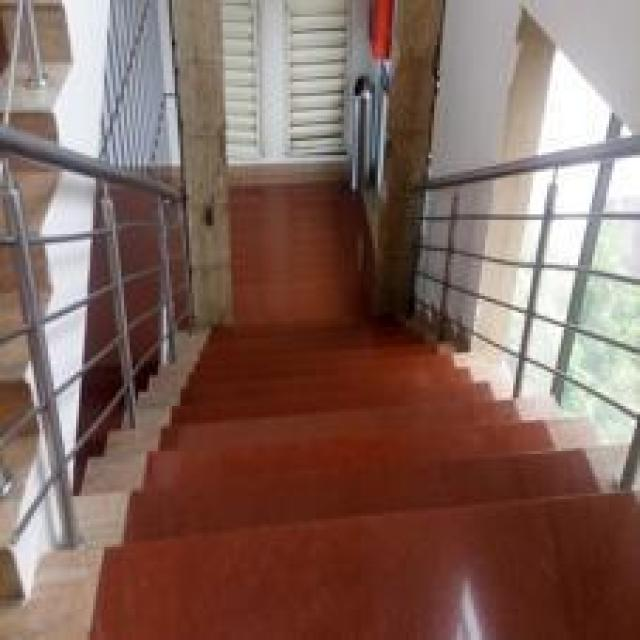downstair: (89, 401, 585, 582)
